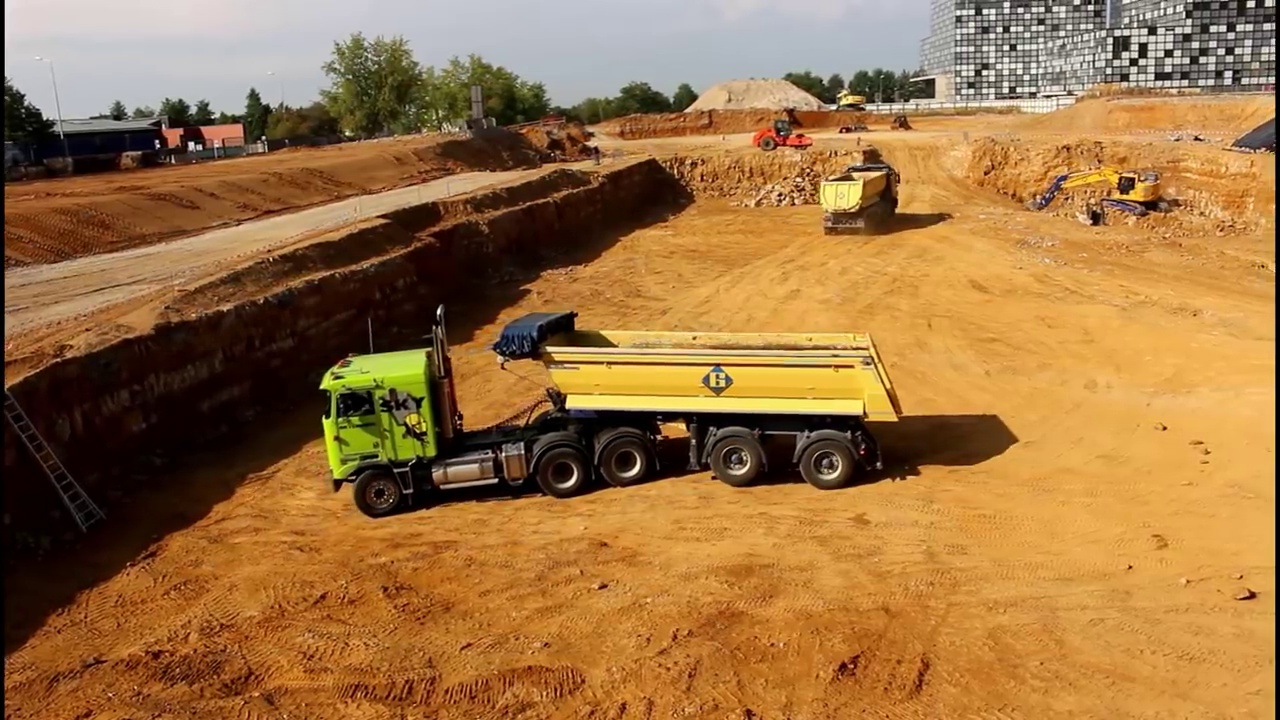compactor: (753, 114, 815, 158)
excavator: (1030, 159, 1177, 227), (832, 83, 871, 116)
truck: (315, 309, 909, 524), (815, 152, 904, 243)
